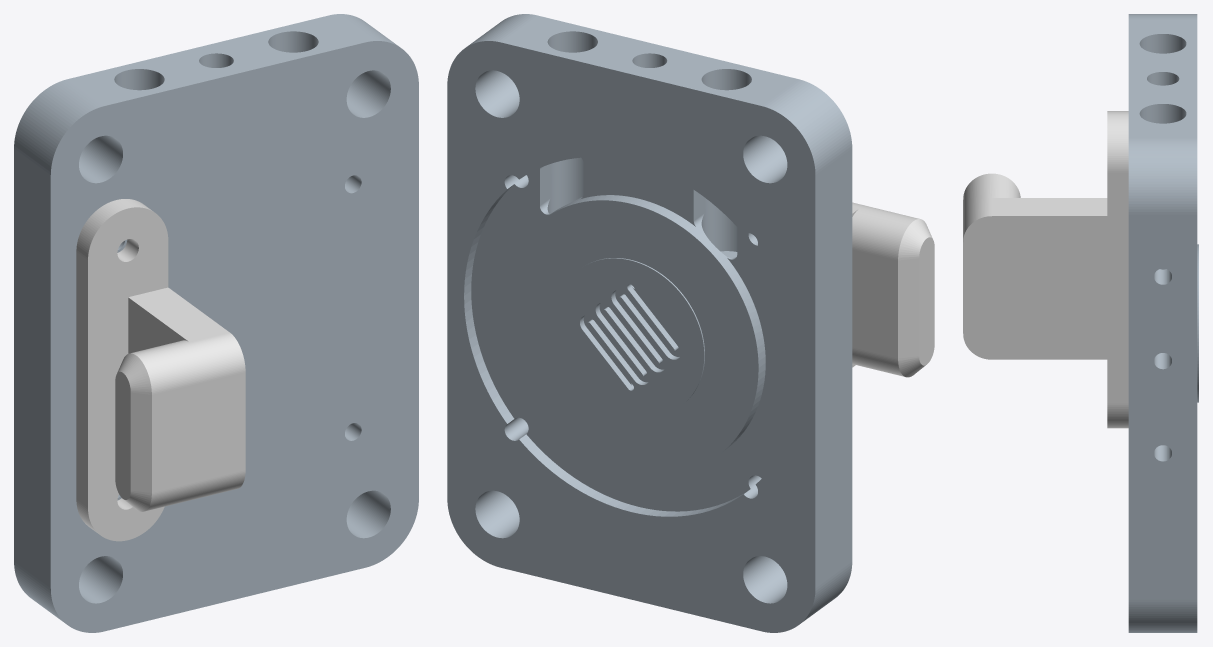
The model's file is ti_cathode_plate_w_handle.obj.
The picture shows the model from 3 angles, left to right: view 1: azimuth 30°, elevation 25°; view 2: azimuth 150°, elevation 25°; view 3: azimuth 270°, elevation 25°; orthographic projection. The views are drawn at different scales.
Visible parts, largest first — view 1: obj1, obj2; view 2: obj1, obj2; view 3: obj1, obj2.
Boxes of the visible parts, left/top/right/bottom form: obj1: left=14, top=14, right=418, bottom=632; obj2: left=76, top=199, right=245, bottom=541; obj1: left=447, top=14, right=852, bottom=632; obj2: left=852, top=202, right=934, bottom=377; obj1: left=1128, top=14, right=1198, bottom=632; obj2: left=963, top=111, right=1128, bottom=428.
Size of the model in its own units: 55.18 by 75 by 32.73.
